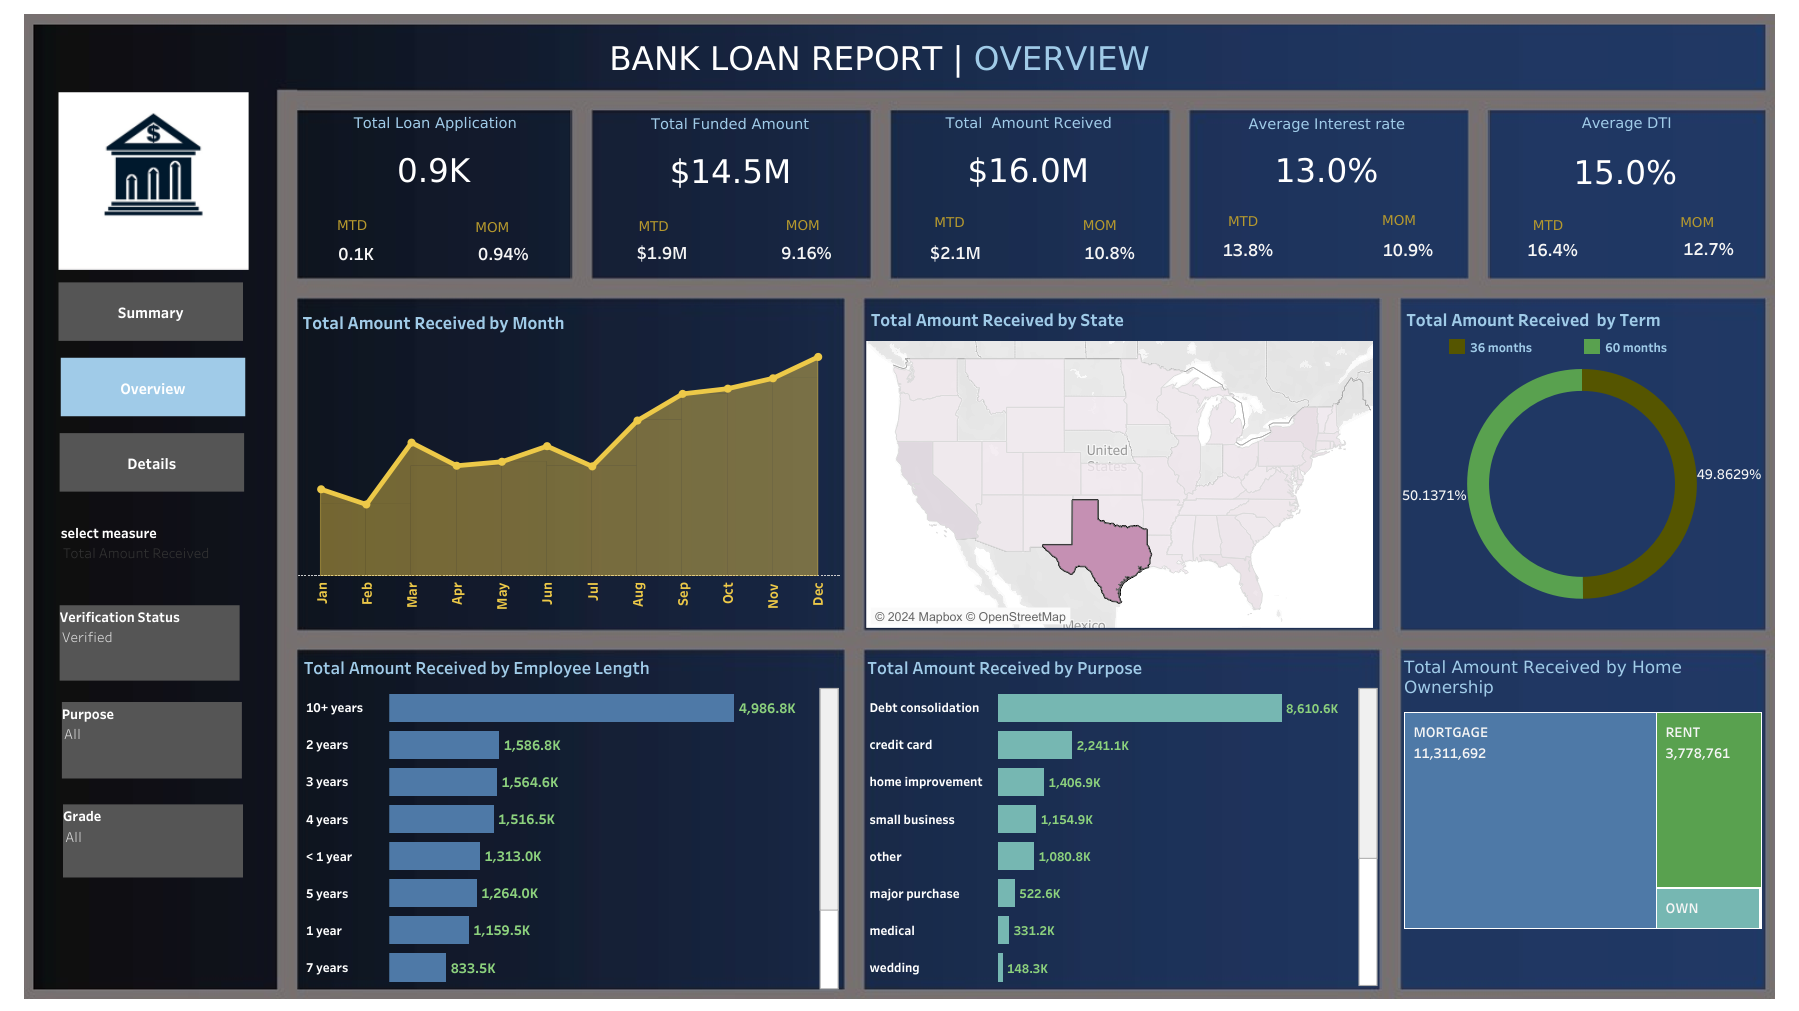

What the dashboard file says about the page in this screenshot:
{"tool":"tableau","page":{"name":"overview (2)","canvas":[1600,900],"ordinal":1},"visuals":[{"type":"image","param":"Image/Tableau Background 2.jpg","box":[8,8,1584,884]},{"type":"text","box":[539,14,720,75]},{"type":"image","param":"Image/bank.jpg","box":[52,82,171,158]},{"type":"worksheet","title":"Total Loan Application","mark":"Automatic","box":[264,95,246,82]},{"type":"worksheet","title":"Total Amount Received","mark":"Automatic","box":[792,95,245,82]},{"type":"worksheet","title":"Average DTI","mark":"Automatic","box":[1323,95,246,84]},{"type":"worksheet","title":"Total Funded Amount","mark":"Automatic","box":[525,96,248,82]},{"type":"worksheet","title":"Average Interest rate","mark":"Automatic","box":[1055,96,249,80]},{"type":"text","box":[1226,180,100,30]},{"type":"text","box":[1089,181,63,30]},{"type":"text","box":[828,182,63,30]},{"type":"text","box":[1491,182,100,30]},{"type":"text","box":[297,184,63,30]},{"type":"text","box":[696,184,100,30]},{"type":"text","box":[960,184,100,30]},{"type":"text","box":[1360,184,63,30]},{"type":"text","box":[565,185,100,30]},{"type":"text","box":[420,186,100,30]},{"type":"worksheet","title":"MoM Average DTI","mark":"Automatic","box":[1461,198,116,43]},{"type":"worksheet","title":"MTD Average Interest Rate","mark":"Automatic","box":[1049,201,122,42]},{"type":"worksheet","title":"MoM Average Interest rate","mark":"Automatic","box":[1199,201,105,42]},{"type":"worksheet","title":"MTD Average DTI","mark":"Automatic","box":[1307,201,148,42]},{"type":"worksheet","title":"MoM Total Funded Amount","mark":"Automatic","box":[676,205,82,37]},{"type":"worksheet","title":"MTD Total Amount Received","mark":"Automatic","box":[778,205,145,38]},{"type":"worksheet","title":"MoM Total Amount Received","mark":"Automatic","box":[921,205,132,37]},{"type":"worksheet","title":"MTD Total Funded Amount","mark":"Automatic","box":[544,206,90,36]},{"type":"worksheet","title":"MTD Total Loan Applications","mark":"Automatic","box":[266,207,103,36]},{"type":"worksheet","title":"MoM Loan Applicationst","mark":"Automatic","box":[400,208,96,34]},{"type":"dashboard-object","box":[52,251,164,52]},{"type":"worksheet","title":"State","mark":"Multipolygon","box":[770,267,451,291]},{"type":"worksheet","title":"term","mark":"Pie","rows":["Calculation_481040778090598414","Calculation_481040778090598414"],"box":[1246,267,320,290]},{"type":"worksheet","title":"Month ","mark":"Area","rows":["Calculation_481040778071556108","Calculation_481040778071556108"],"cols":["issue_date"],"box":[265,269,482,283]},{"type":"legend","title":"term","param":"[federated.12hed4l0pgjz5j1dzlt8n1hdz370].[none:term:nk]","box":[1285,298,272,29]},{"type":"dashboard-object","box":[54,318,164,52]},{"type":"dashboard-object","box":[53,385,164,52]},{"type":"parameter","param":"[Parameters].[Parameter 1]","box":[54,463,160,58]},{"type":"filter","title":"Average DTI","param":"[federated.12hed4l0pgjz5j1dzlt8n1hdz370].[none:verification_status:nk]","box":[53,538,160,67]},{"type":"worksheet","title":"employee length ","mark":"Automatic","rows":["emp_length"],"cols":["Calculation_481040778071556108"],"box":[266,576,480,303]},{"type":"worksheet","title":"purpose ","mark":"Automatic","rows":["purpose"],"cols":["Calculation_481040778071556108"],"box":[767,576,458,300]},{"type":"worksheet","title":"home owner ship","mark":"Automatic","box":[1244,578,325,302]},{"type":"filter","title":"Average DTI","param":"[federated.12hed4l0pgjz5j1dzlt8n1hdz370].[none:purpose:nk]","box":[55,624,160,68]},{"type":"filter","title":"Average DTI","param":"[federated.12hed4l0pgjz5j1dzlt8n1hdz370].[none:grade:nk]","box":[56,715,160,65]}]}

Visuals, with their boxes in screenshot pixels (x1, y1, x2, y2), scaled from the page's 1600x900 canvas onto the 1799x1011 screenshot:
image: l=9, t=9, r=1790, b=1002
text: l=606, t=16, r=1416, b=100
image: l=58, t=92, r=251, b=270
"Total Loan Application" worksheet: l=297, t=107, r=573, b=199
"Total Amount Received" worksheet: l=891, t=107, r=1166, b=199
"Average DTI" worksheet: l=1488, t=107, r=1764, b=201
"Total Funded Amount" worksheet: l=590, t=108, r=869, b=200
"Average Interest rate" worksheet: l=1186, t=108, r=1466, b=198
text: l=1378, t=202, r=1491, b=236
text: l=1224, t=203, r=1295, b=237
text: l=931, t=204, r=1002, b=238
text: l=1676, t=204, r=1789, b=238
text: l=334, t=207, r=405, b=240
text: l=783, t=207, r=895, b=240
text: l=1079, t=207, r=1192, b=240
text: l=1529, t=207, r=1600, b=240
text: l=635, t=208, r=748, b=242
text: l=472, t=209, r=585, b=243
"MoM Average DTI" worksheet: l=1643, t=222, r=1773, b=271
"MTD Average Interest Rate" worksheet: l=1179, t=226, r=1317, b=273
"MoM Average Interest rate" worksheet: l=1348, t=226, r=1466, b=273
"MTD Average DTI" worksheet: l=1470, t=226, r=1636, b=273
"MoM Total Funded Amount" worksheet: l=760, t=230, r=852, b=272
"MTD Total Amount Received" worksheet: l=875, t=230, r=1038, b=273
"MoM Total Amount Received" worksheet: l=1036, t=230, r=1184, b=272
"MTD Total Funded Amount" worksheet: l=612, t=231, r=713, b=272
"MTD Total Loan Applications" worksheet: l=299, t=233, r=415, b=273
"MoM Loan Applicationst" worksheet: l=450, t=234, r=558, b=272
dashboard-object: l=58, t=282, r=243, b=340
"State" worksheet (Multipolygon marks): l=866, t=300, r=1373, b=627
"term" worksheet (Pie marks): l=1401, t=300, r=1761, b=626
"Month " worksheet (Area marks): l=298, t=302, r=840, b=620
"term" legend: l=1445, t=335, r=1751, b=367
dashboard-object: l=61, t=357, r=245, b=416
dashboard-object: l=60, t=432, r=244, b=491
parameter: l=61, t=520, r=241, b=585
"Average DTI" filter: l=60, t=604, r=239, b=680
"employee length " worksheet: l=299, t=647, r=839, b=987
"purpose " worksheet: l=862, t=647, r=1377, b=984
"home owner ship" worksheet: l=1399, t=649, r=1764, b=989
"Average DTI" filter: l=62, t=701, r=242, b=777
"Average DTI" filter: l=63, t=803, r=243, b=876
